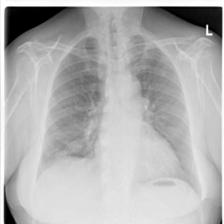tuberculosis: (33, 29, 204, 199)
